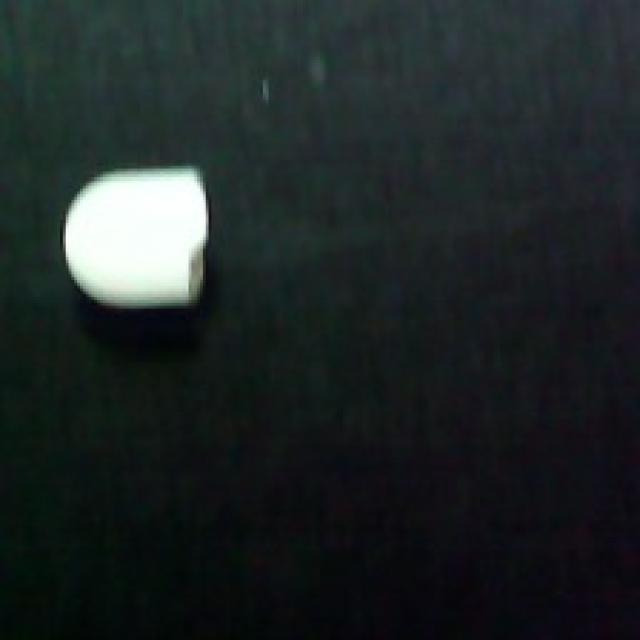defected: (57, 163, 217, 309)
